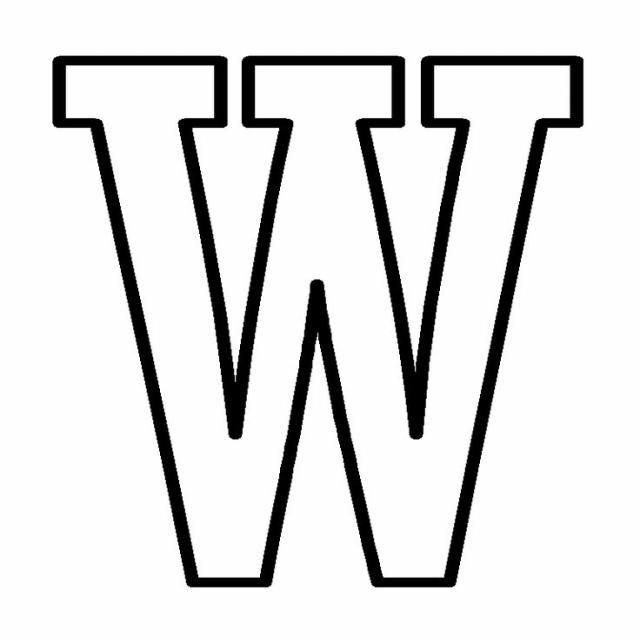W: (11, 14, 625, 616)
